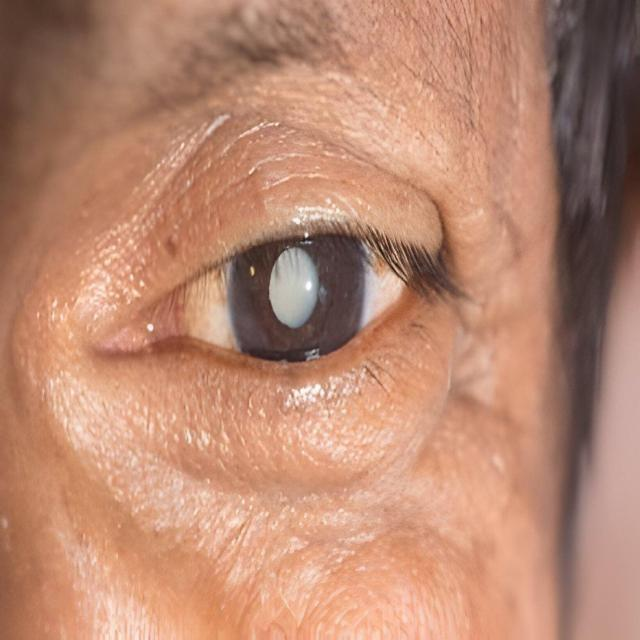Cataract: (220, 206, 372, 378)
